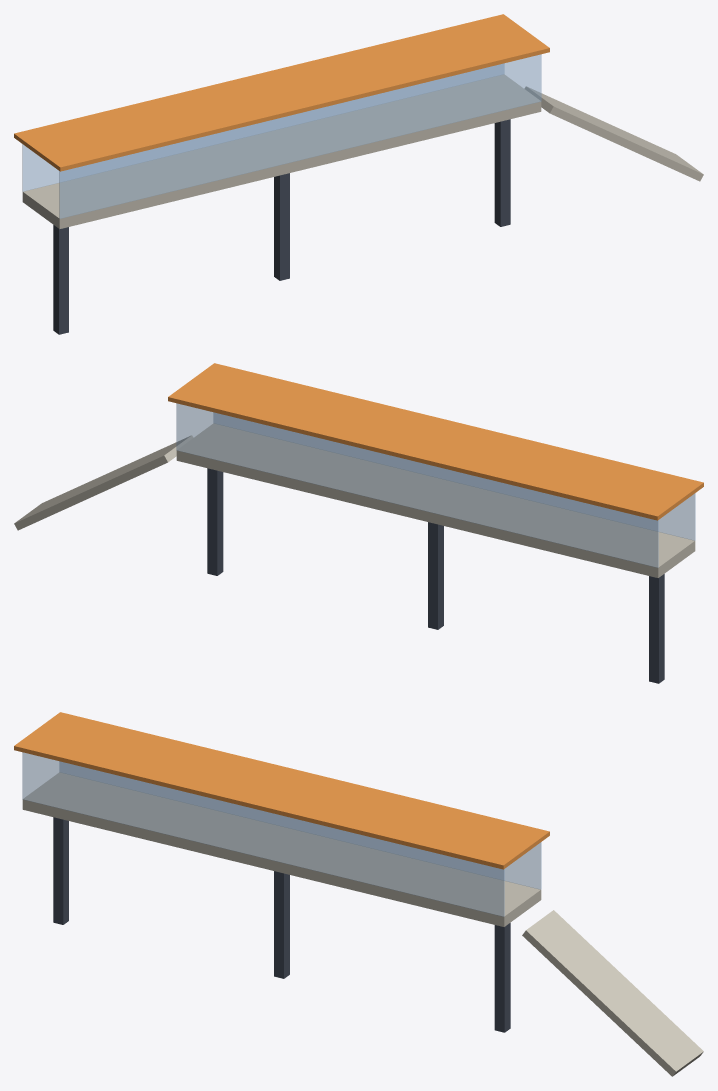
The model's file is skywalk.glb.
3 renders of one model, top to bottom at view 1: azimuth 30°, elevation 25°; view 2: azimuth 150°, elevation 25°; view 3: azimuth 330°, elevation 25°, orthographic.
Parts seen in each view (by area): view 1: skywalk; view 2: skywalk; view 3: skywalk.
Boxes of the visible parts, <box> form: skywalk: <box>14,14,703,334</box>; skywalk: <box>14,363,703,683</box>; skywalk: <box>14,712,703,1076</box>.
Size of the model in its own units: 32.54 by 8.9 by 4.
